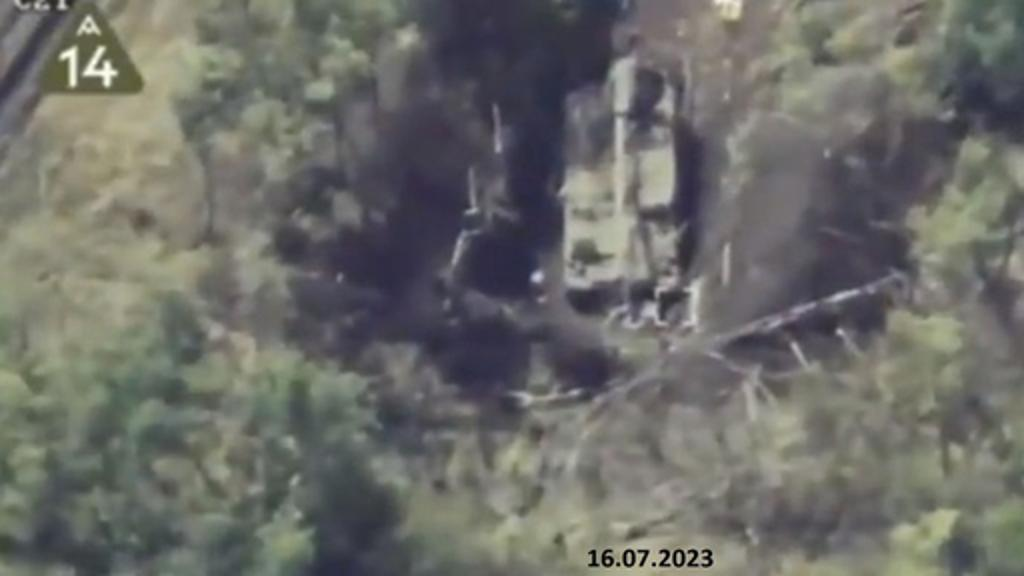ART: (524, 44, 708, 304)
